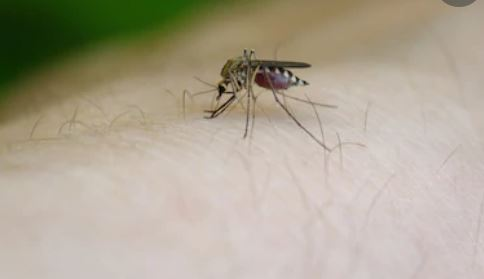dengue_mosquito: (198, 48, 312, 137)
